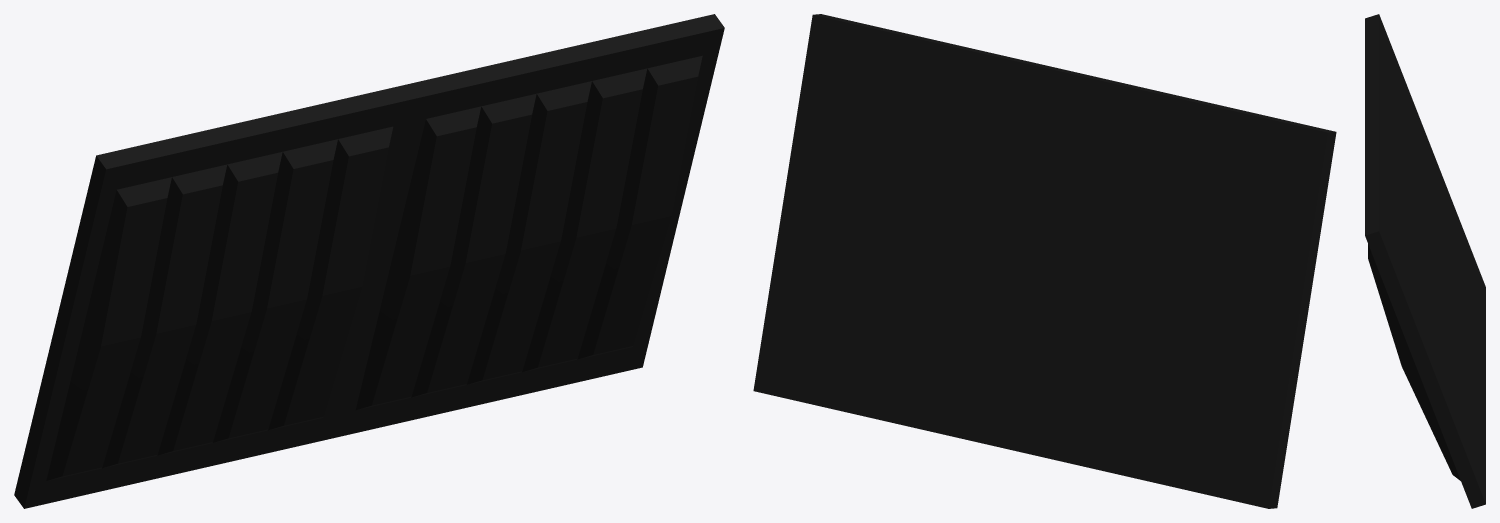
Rendered from SM_Prop_Dumpster_01_LID.obj.
3 views of the same model, side by side, from view 1: azimuth 30°, elevation 25°; view 2: azimuth 150°, elevation 25°; view 3: azimuth 270°, elevation 25° (orthographic). The views are drawn at different scales.
Visible parts, largest first — view 1: SM_Prop_Dumpster_01_LID_1, SM_Prop_Dumpster_01_LID_0; view 2: SM_Prop_Dumpster_01_LID_1, SM_Prop_Dumpster_01_LID_0; view 3: SM_Prop_Dumpster_01_LID_0, SM_Prop_Dumpster_01_LID_1.
Part boxes in pixels (x1,y1,x2,y2): SM_Prop_Dumpster_01_LID_1: [14, 84, 415, 508]; SM_Prop_Dumpster_01_LID_0: [333, 14, 724, 437]; SM_Prop_Dumpster_01_LID_1: [1011, 73, 1336, 508]; SM_Prop_Dumpster_01_LID_0: [753, 14, 1077, 449]; SM_Prop_Dumpster_01_LID_0: [1365, 122, 1485, 508]; SM_Prop_Dumpster_01_LID_1: [1365, 14, 1485, 394].
Bounding box in the file's own units: 0.0209 × 0.0131 × 0.00502.
2 materials, 2 textured.
